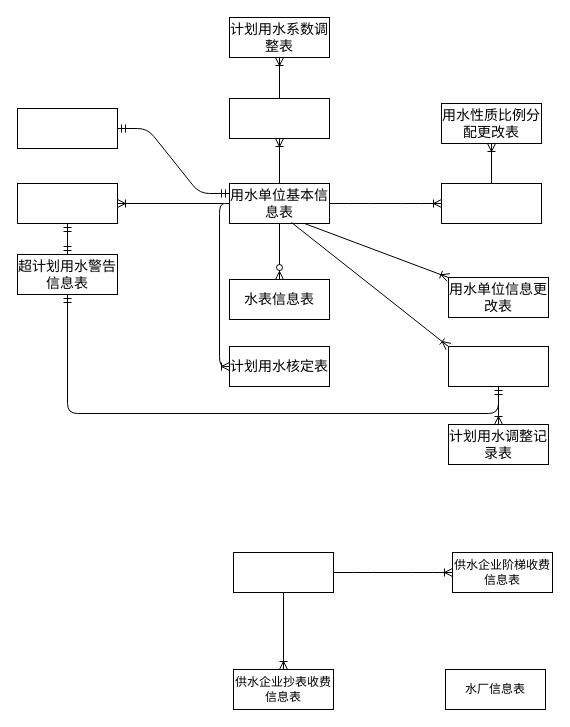
This 570x727 diagram has some shape labels left out. The centre of each missing label's shape, as x and y in pixels:
"供水企业基本信息表" goes at (283,572).
"初始计划用水量信息表" goes at (498,366).
"实际用水信息表" goes at (67,203).
"实际用水变化信息表" goes at (67,128).
"用水性质比例分配表" goes at (491,203).
"计划用水基本系数表" goes at (279,118).
